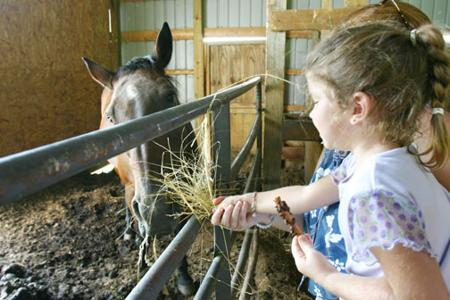person: (210, 21, 446, 300)
